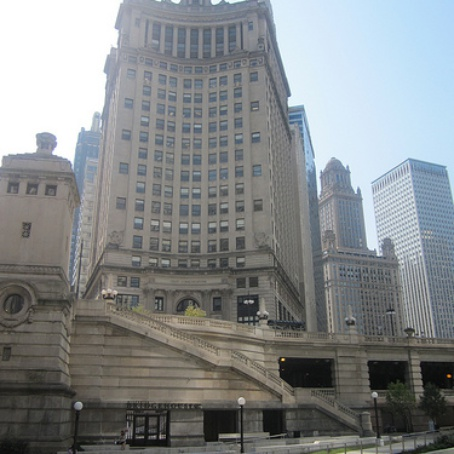building: (95, 1, 302, 304), (304, 152, 406, 335), (379, 163, 454, 334)
sky: (304, 1, 454, 167)
